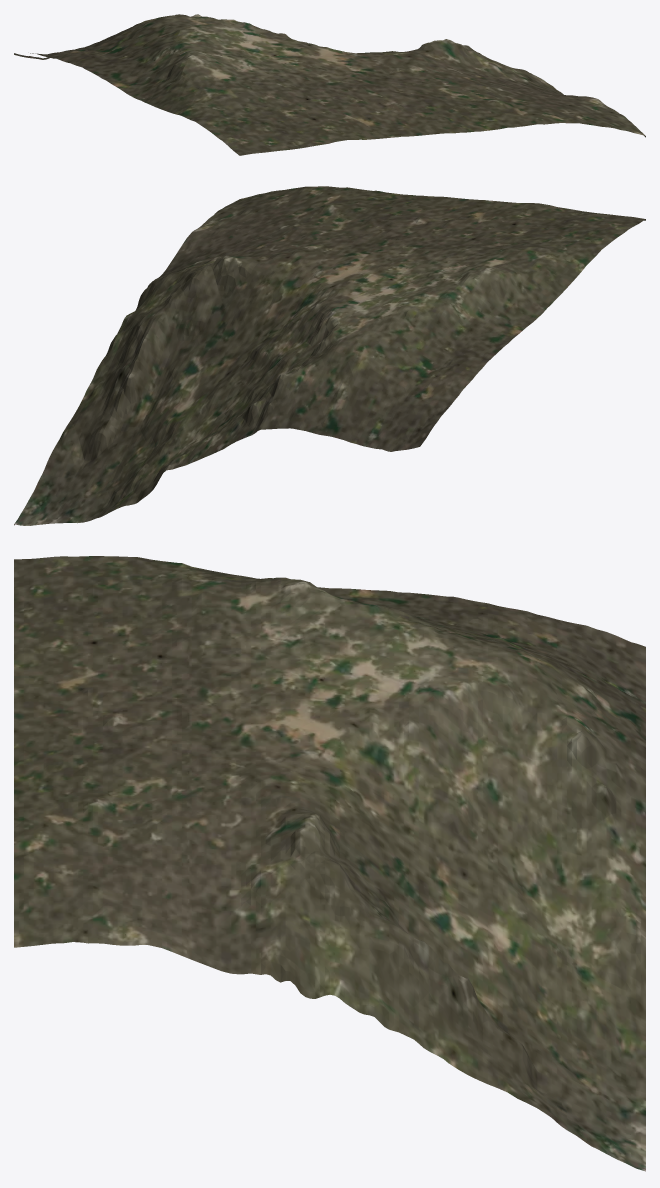
The picture shows the model from 3 angles, top to bottom: view 1: azimuth 30°, elevation 25°; view 2: azimuth 150°, elevation 25°; view 3: azimuth 270°, elevation 25°; orthographic projection. The views are drawn at different scales.
Size of the model in its own units: 250 by 148 by 241.
1 material, 1 textured.
